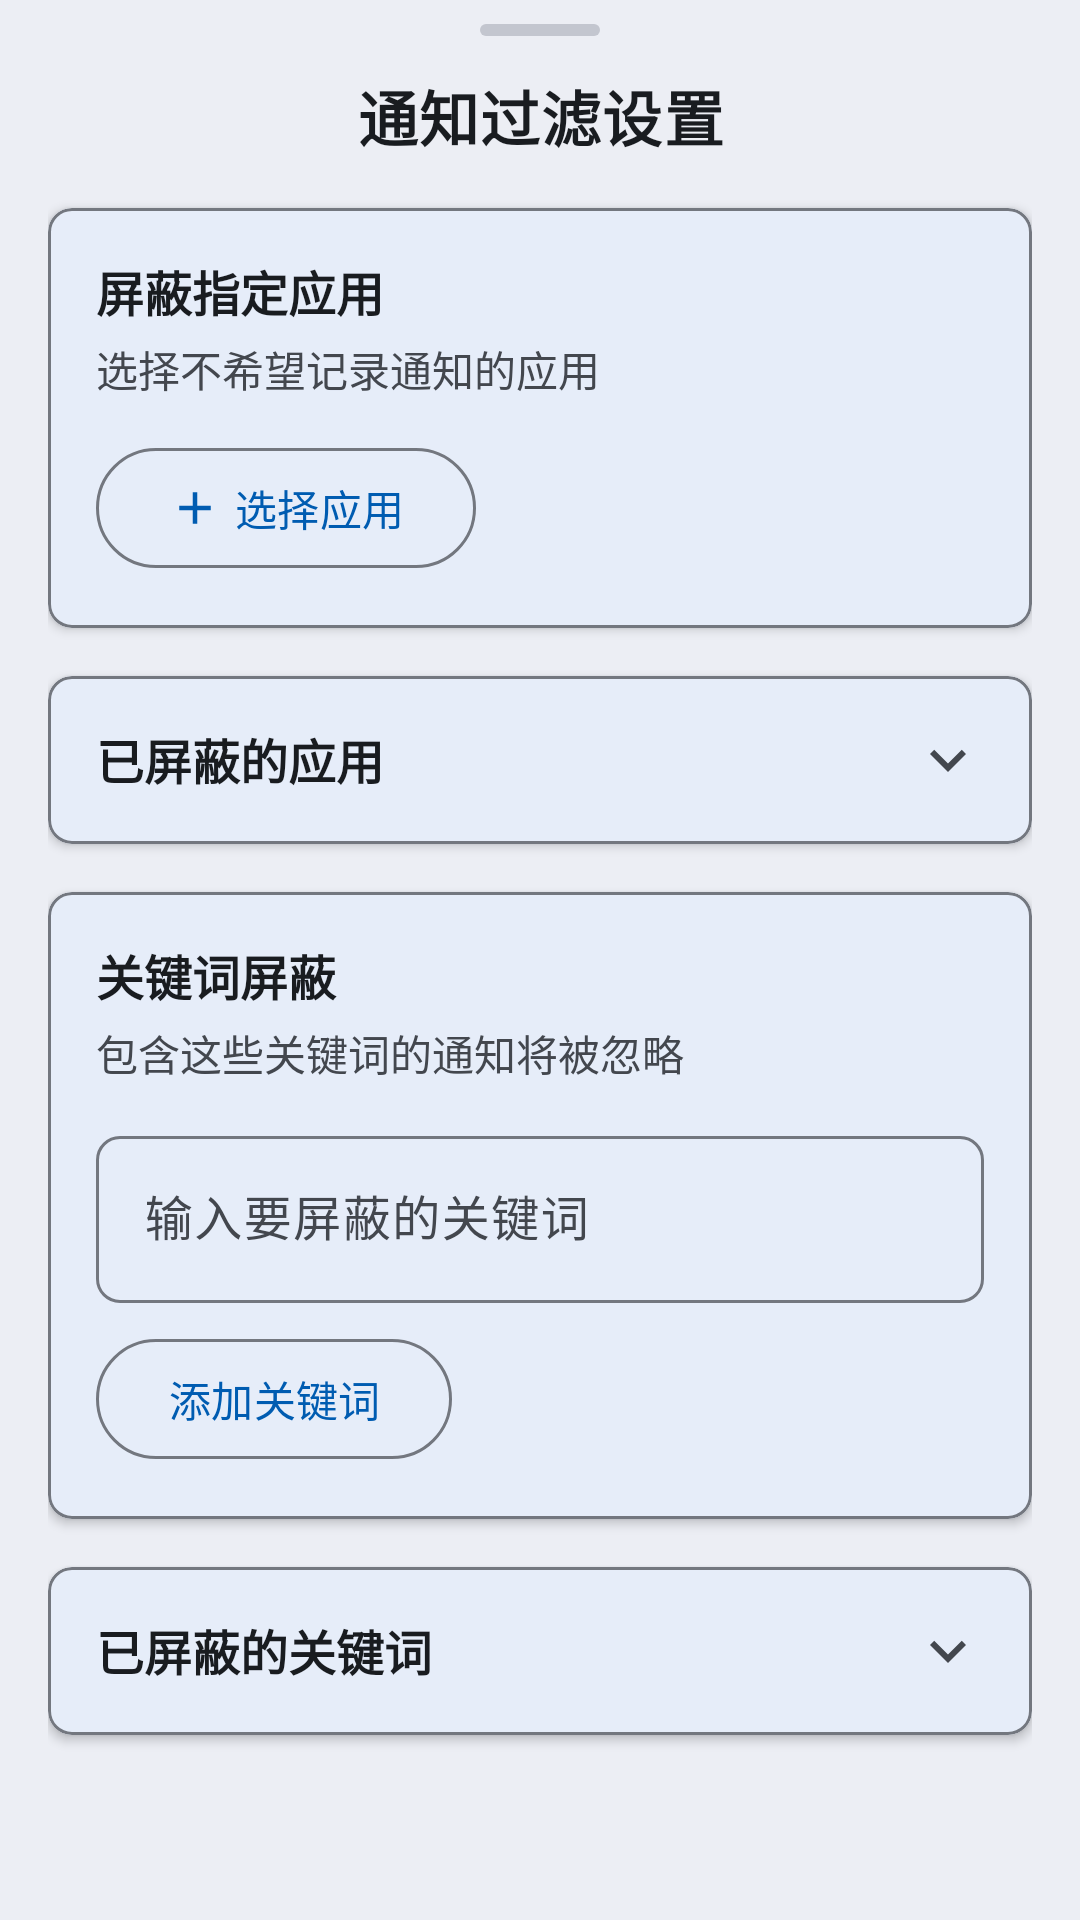

Where icons sit on this 1080*1920 app screen, as [x1, y1, x2, y2]:
展开/收起: [930, 750, 966, 772], [930, 1641, 966, 1663]
